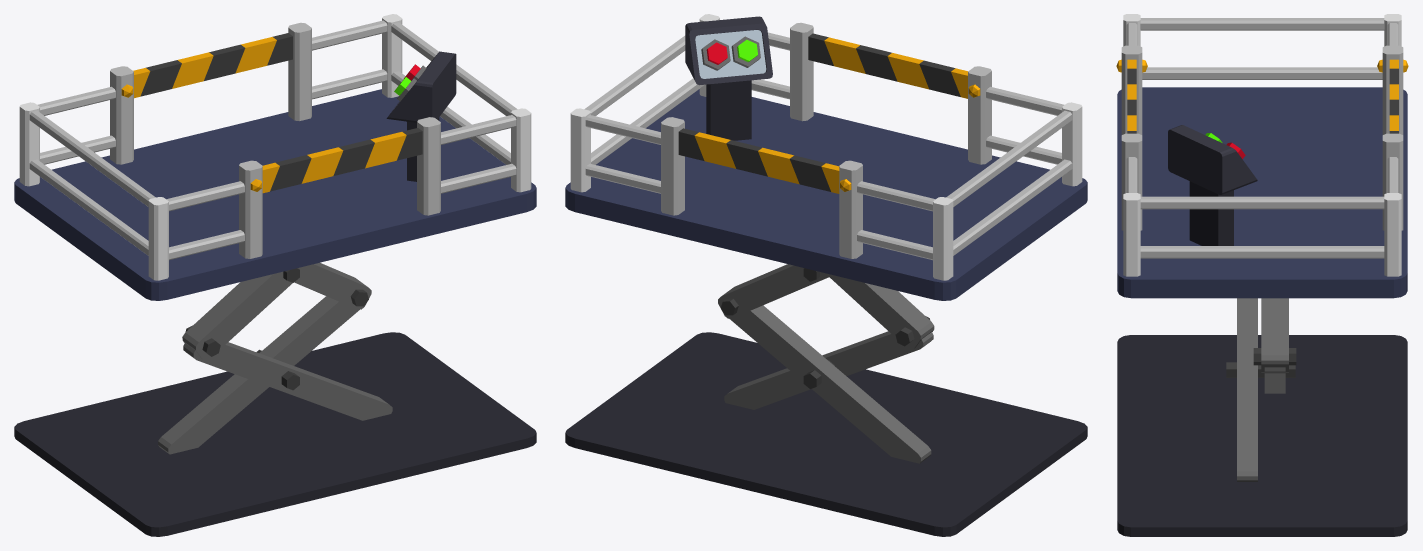
The model's file is Elevator.fbx.
3 renders of one model, left to right at view 1: azimuth 30°, elevation 25°; view 2: azimuth 150°, elevation 25°; view 3: azimuth 270°, elevation 25°, orthographic.
Visible parts, largest first — view 1: Elevator, Elevator_Floor, Wire_Parts_02_A, Wire_Parts_02_B, Bar_Back, Bar_Front, Wire_Parts_03_B, Button Machine, Wire_Parts_03_A; view 2: Elevator, Elevator_Floor, Wire_Parts_02_A, Button Machine, Bar_Front, Bar_Back, Wire_Parts_02_B, Wire_Parts_03_B, Wire_Parts_03_A; view 3: Elevator, Elevator_Floor, Button Machine, Wire_Parts_02_B, Wire_Parts_03_A, Bar_Back, Bar_Front, Wire_Parts_02_A.
Boxes of the visible parts, bbox=[...] form: Elevator: bbox=[14, 14, 536, 300]; Elevator_Floor: bbox=[14, 332, 536, 536]; Wire_Parts_02_A: bbox=[158, 296, 359, 454]; Wire_Parts_02_B: bbox=[183, 342, 392, 420]; Bar_Back: bbox=[262, 128, 422, 193]; Bar_Front: bbox=[133, 33, 292, 98]; Wire_Parts_03_B: bbox=[182, 264, 312, 360]; Button Machine: bbox=[386, 51, 456, 181]; Wire_Parts_03_A: bbox=[283, 262, 371, 309]; Elevator: bbox=[565, 14, 1087, 300]; Elevator_Floor: bbox=[565, 332, 1087, 536]; Wire_Parts_02_A: bbox=[729, 305, 931, 463]; Button Machine: bbox=[685, 16, 772, 140]; Bar_Front: bbox=[678, 128, 839, 193]; Bar_Back: bbox=[808, 33, 967, 98]; Wire_Parts_02_B: bbox=[724, 331, 933, 409]; Wire_Parts_03_B: bbox=[829, 275, 934, 349]; Wire_Parts_03_A: bbox=[718, 264, 833, 318]; Elevator: bbox=[1116, 14, 1408, 298]; Elevator_Floor: bbox=[1117, 335, 1407, 536]; Button Machine: bbox=[1168, 125, 1257, 245]; Wire_Parts_02_B: bbox=[1226, 298, 1295, 481]; Wire_Parts_03_A: bbox=[1253, 298, 1296, 372]; Bar_Back: bbox=[1127, 59, 1136, 133]; Bar_Front: bbox=[1389, 59, 1398, 133]; Wire_Parts_02_A: bbox=[1264, 367, 1285, 393].
Bounding box in the file's own units: 4.47 × 3.99 × 2.87.
